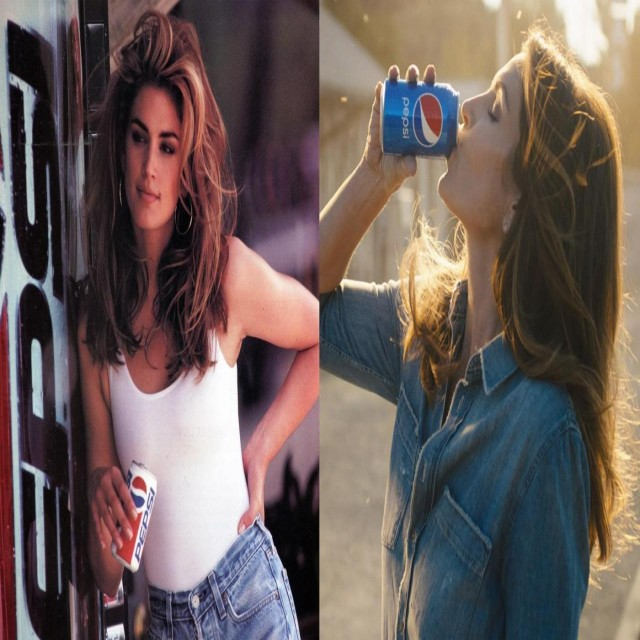pepsi: (412, 89, 443, 150), (130, 474, 147, 510)
